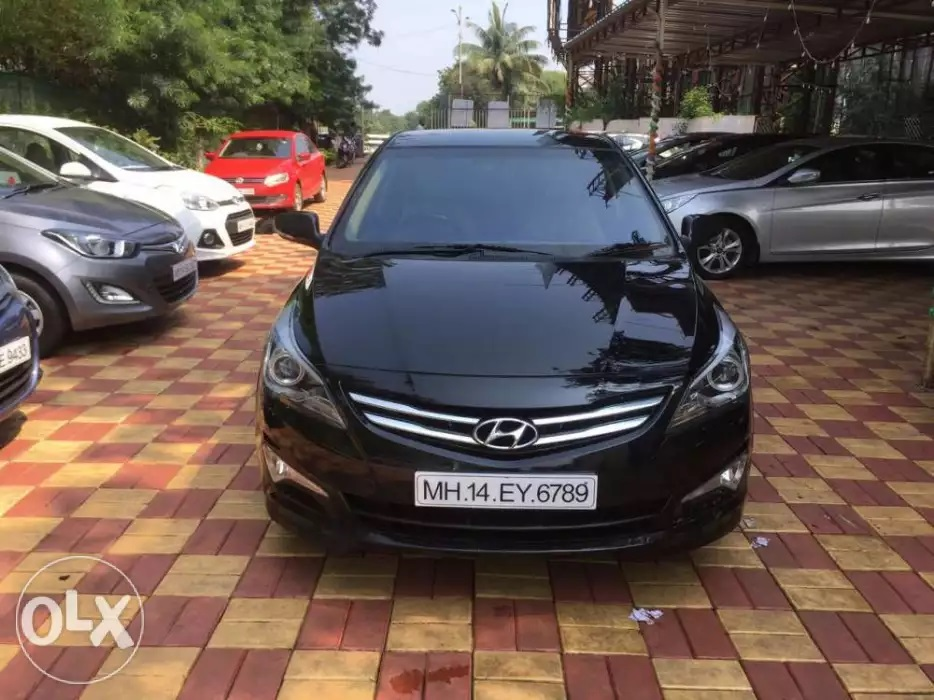licenseplate: (410, 467, 599, 512)
